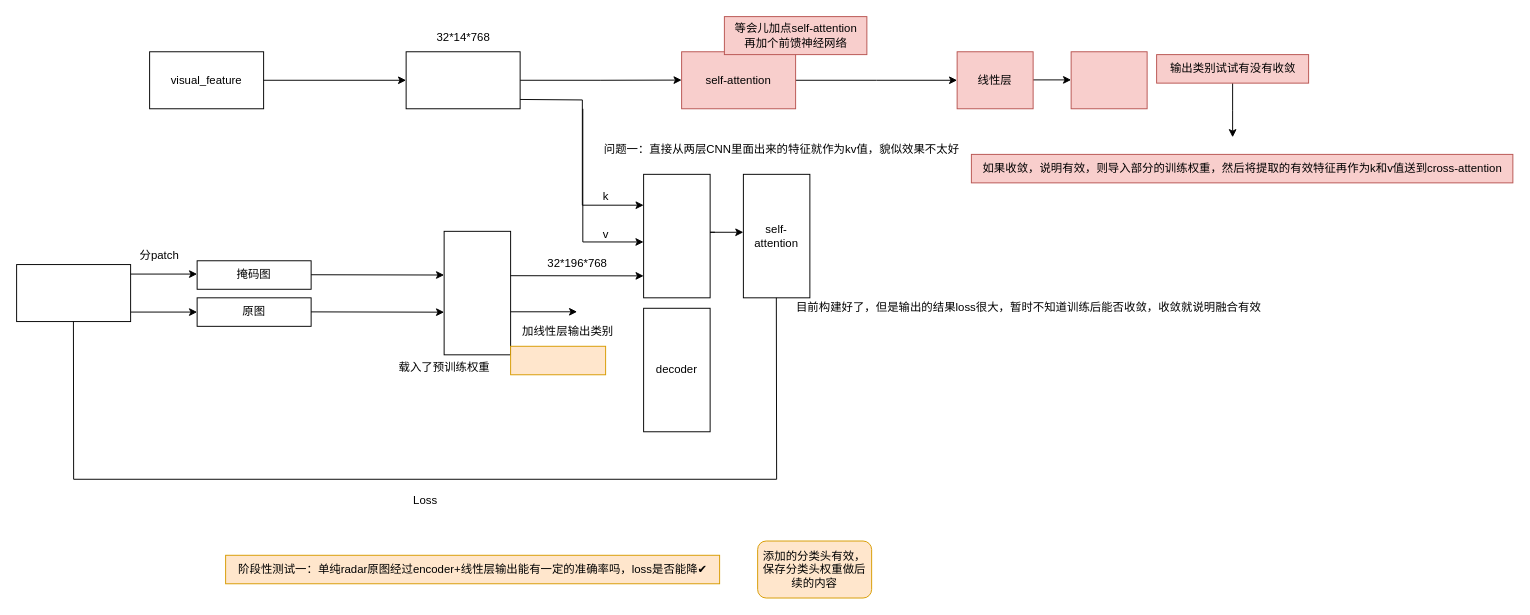
Some shapes in this 1530 by 615 pixel diagram are drawn without their labels. The box of each missing label's shape, as (x1, y1, x2, y2) in pixels:
3D CNN: (405, 51, 520, 109)
cross-attention: (643, 173, 710, 298)
encoder: (443, 230, 511, 355)
radar_feature: (16, 264, 131, 322)
分类头: (1070, 51, 1147, 109)
阶段性测试一: (510, 345, 606, 375)
